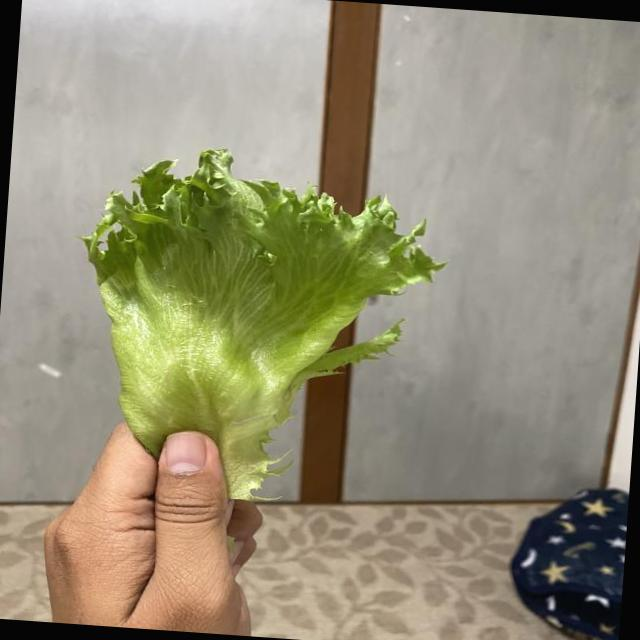Lettuce-Ready-to-Harvest: (84, 149, 443, 498)
